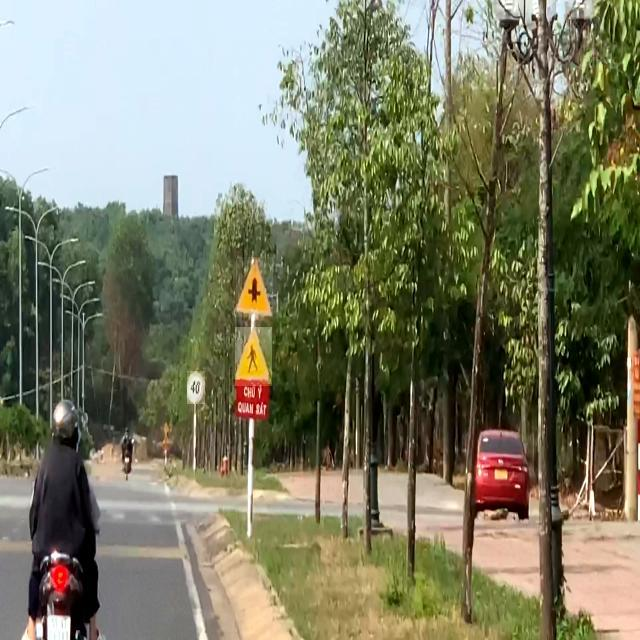P-127: (187, 371, 205, 404)
W-207a: (236, 258, 273, 318)
W-224: (235, 327, 272, 386)
